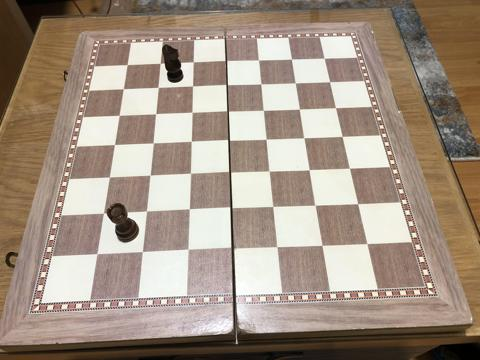xcorner: (320, 53, 332, 65), (287, 54, 299, 66), (255, 55, 267, 67), (222, 56, 234, 68), (189, 58, 201, 70), (156, 59, 168, 71), (123, 60, 135, 72), (325, 76, 337, 88), (291, 78, 303, 90), (257, 79, 269, 91), (223, 80, 235, 92), (188, 82, 200, 94), (154, 83, 166, 95), (119, 84, 131, 96), (331, 102, 343, 114), (295, 104, 307, 116), (260, 105, 272, 117), (224, 106, 236, 118), (187, 108, 199, 120), (151, 109, 163, 121), (115, 111, 127, 123), (338, 131, 350, 143), (300, 132, 312, 144), (262, 134, 274, 146), (225, 135, 237, 147), (187, 137, 199, 149), (110, 140, 122, 152), (345, 162, 357, 174), (305, 164, 317, 176), (266, 166, 278, 178), (226, 167, 238, 179), (186, 169, 198, 181), (145, 171, 157, 183), (105, 173, 117, 185), (353, 197, 365, 209), (311, 199, 323, 211), (269, 201, 281, 213), (227, 203, 239, 215), (185, 205, 197, 217), (142, 207, 154, 219), (99, 209, 111, 221), (362, 237, 374, 249), (318, 239, 330, 251), (273, 241, 285, 253), (228, 243, 240, 255), (183, 245, 195, 257), (138, 247, 150, 259), (93, 250, 105, 262), (148, 139, 160, 150)
